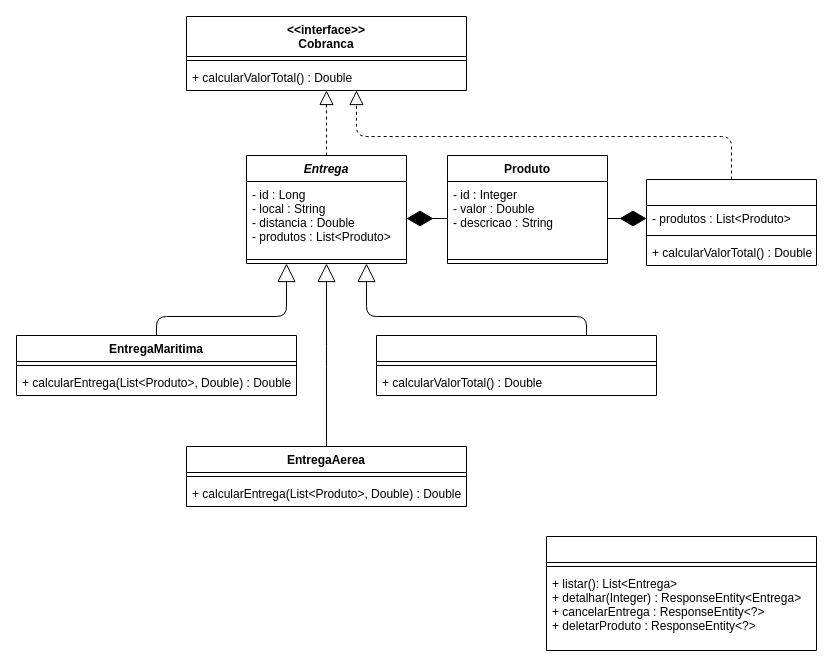
Some shapes in this 833 by 667 pixel diagram are drawn without their labels. The box of each missing label's shape, as (x1, y1, x2, y2) in pixels:
Carrinho: (646, 178, 816, 266)
EntregaControler: (546, 536, 816, 650)
EntregaTerrea: (376, 334, 656, 396)
